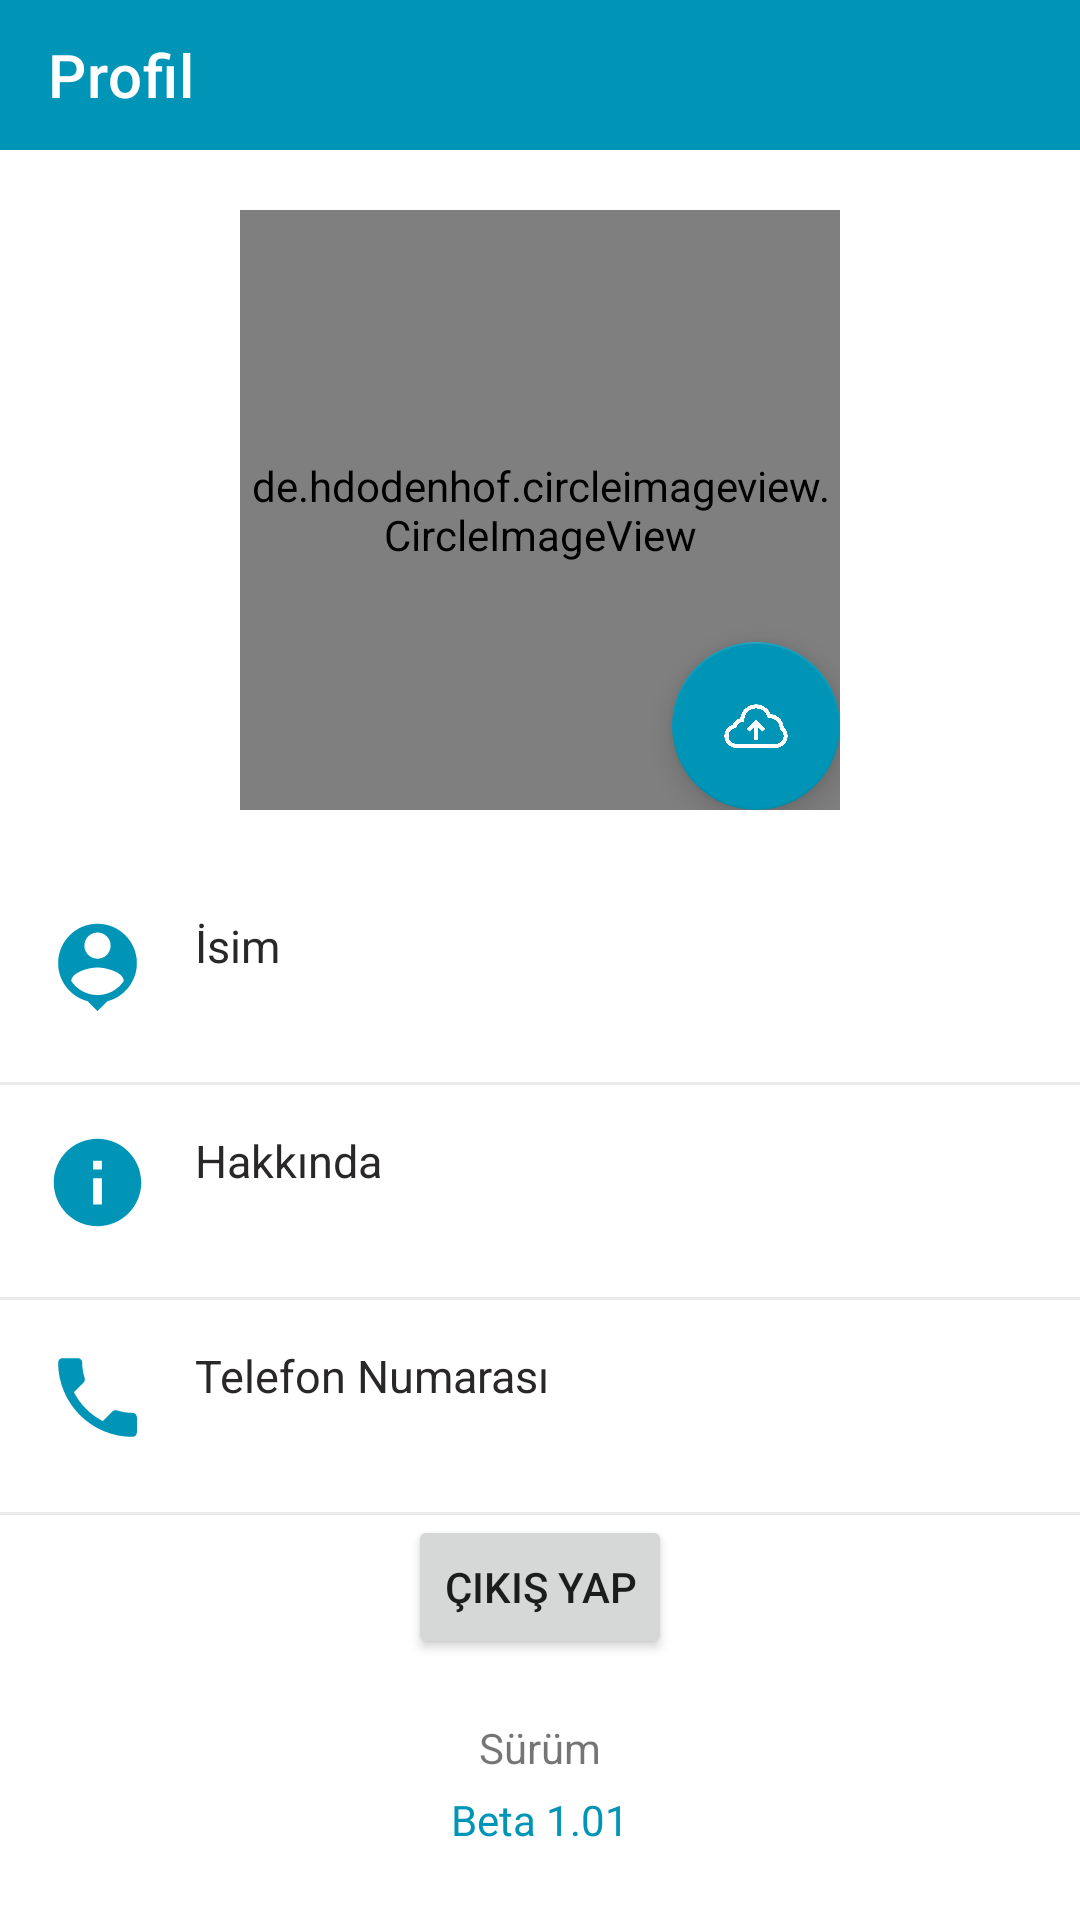

Screen size 1080px x 1920px. Icon name, then its center in pixels as (x,y):
info: (97,1182)
person pin: (97,967)
phone: (97,1397)
upload: (756,726)
